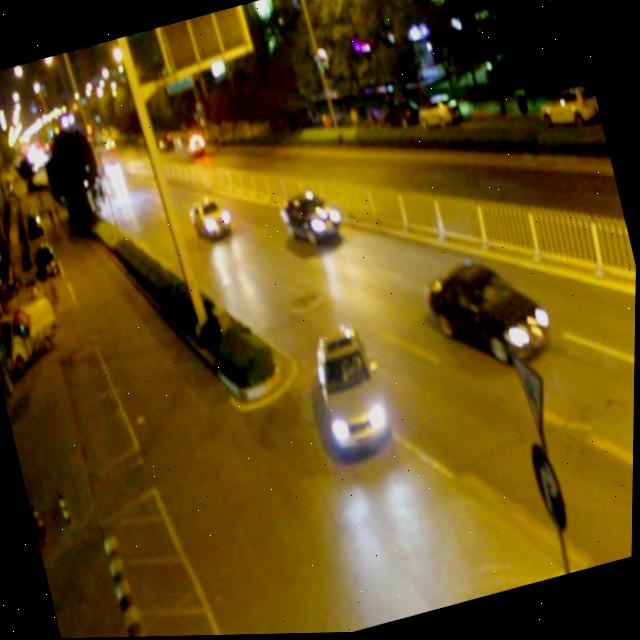car: (420, 245, 557, 387), (303, 318, 397, 462), (278, 184, 347, 256), (187, 194, 233, 242), (183, 128, 208, 156)
